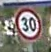limite 30: (13, 6, 43, 42)
